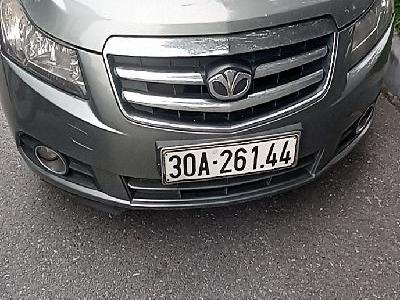lisence: (159, 130, 300, 187)
